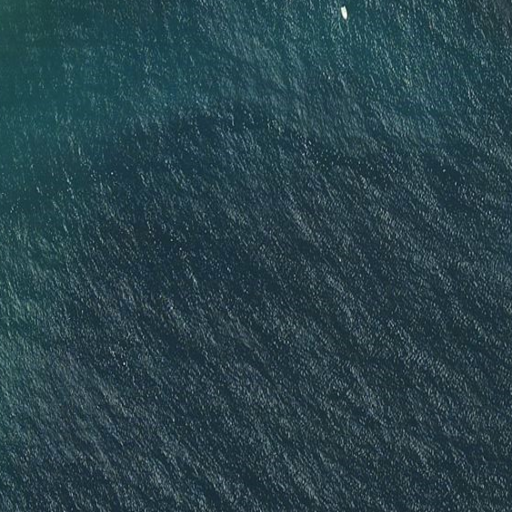ship: (339, 4, 350, 22)
